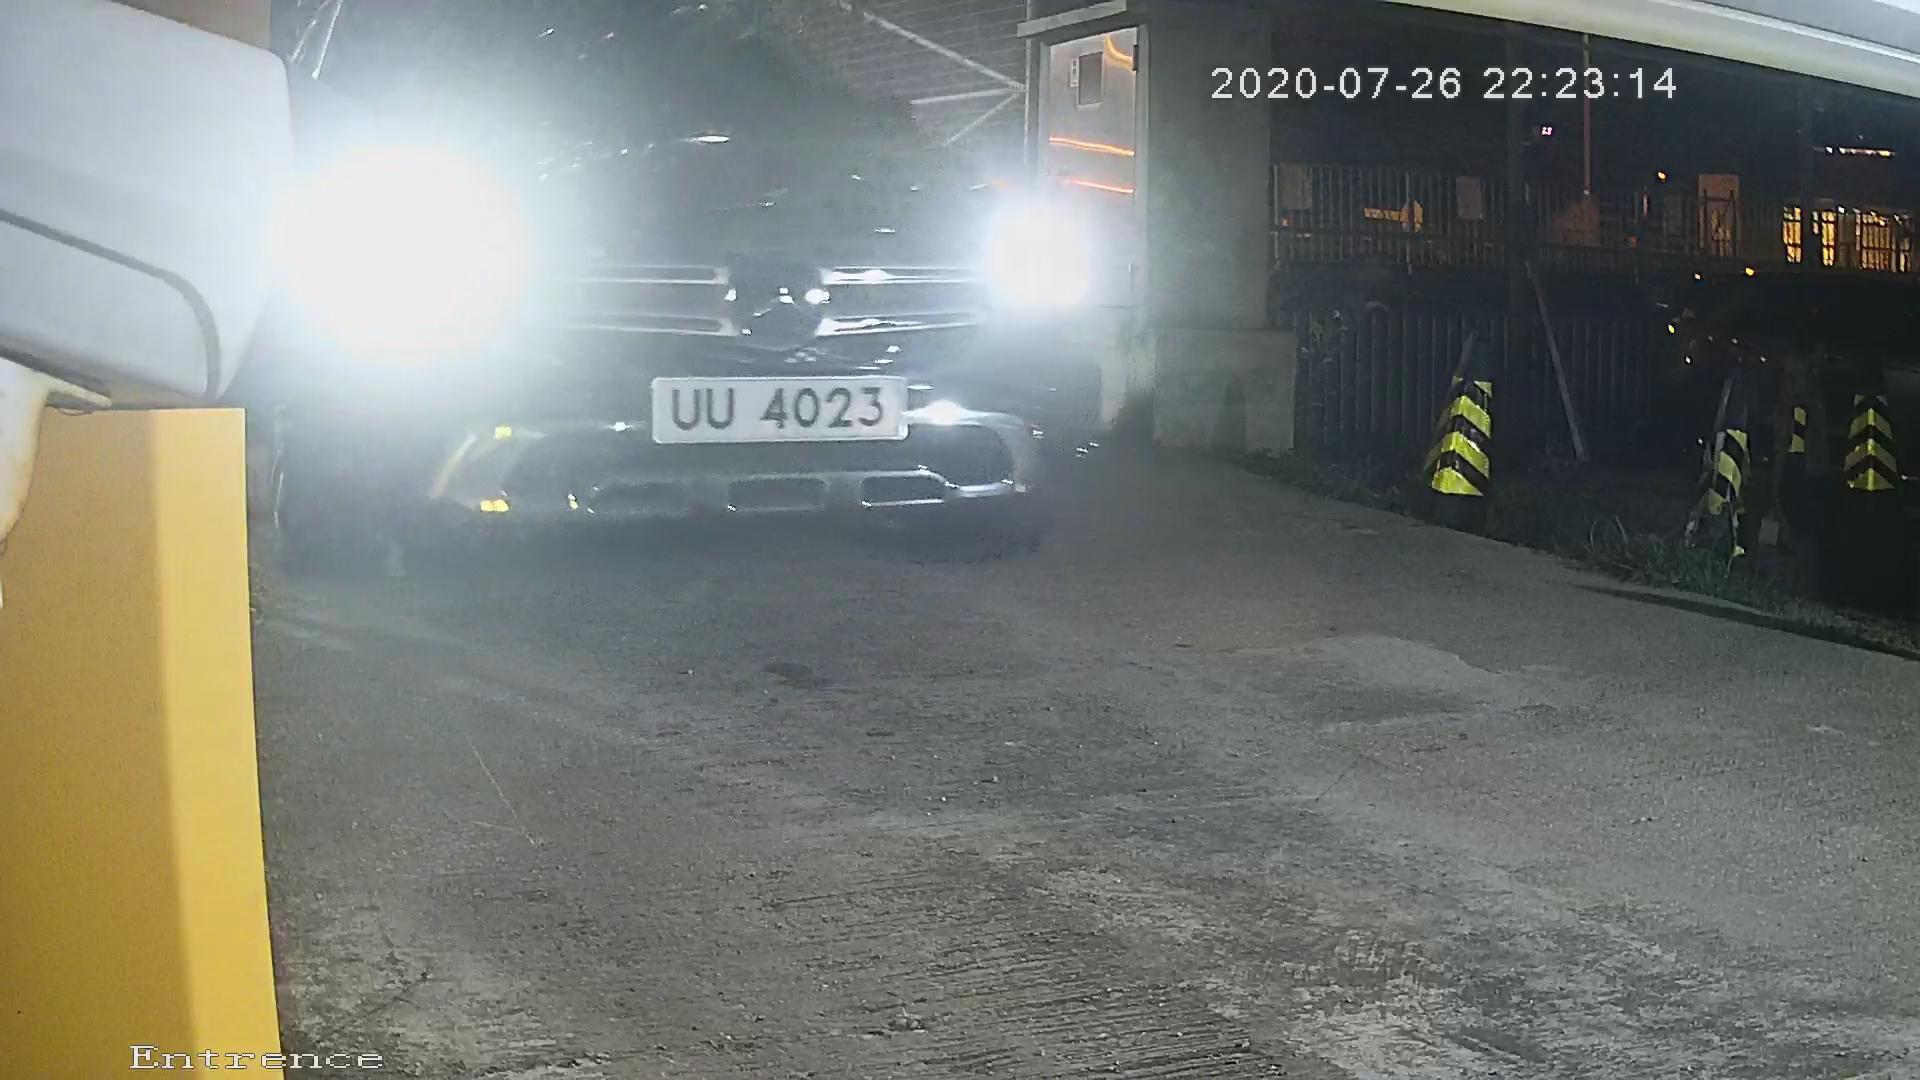License Plate: (592, 338, 986, 463)
